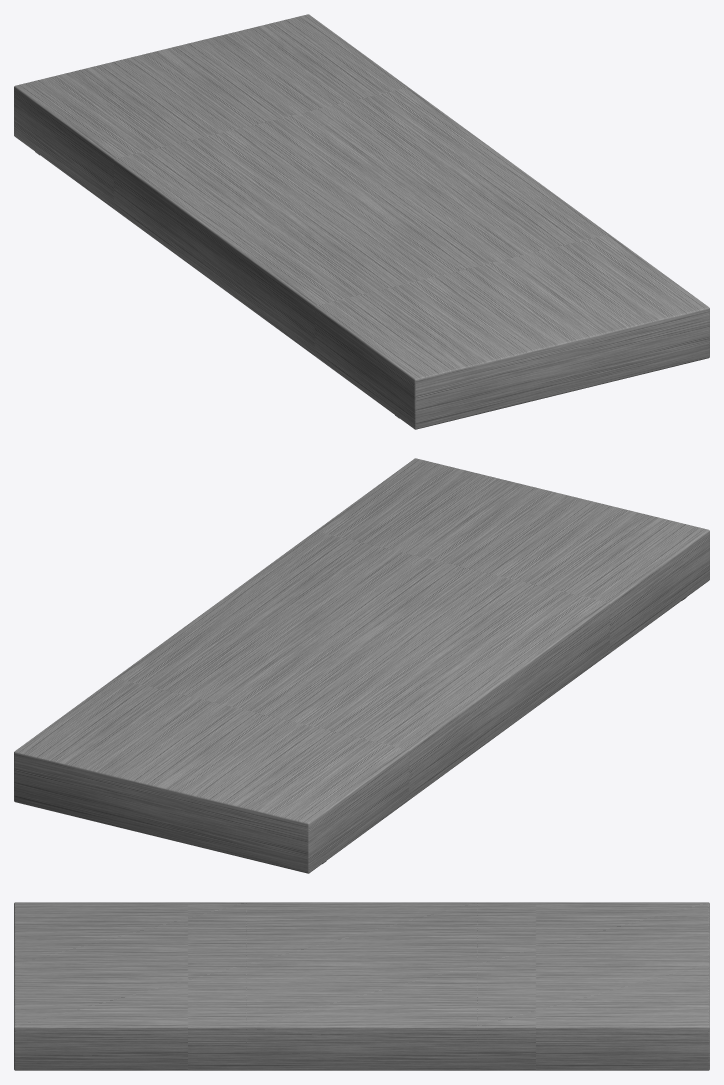
Rendered from PP_steel_podium_platinum.obj.
3 renders of one model, top to bottom at view 1: azimuth 30°, elevation 25°; view 2: azimuth 150°, elevation 25°; view 3: azimuth 270°, elevation 25°, orthographic. The views are drawn at different scales.
Parts seen in each view (by area): view 1: pp52_stell; view 2: pp52_stell; view 3: pp52_stell.
Part boxes in pixels (x1=…): pp52_stell: x1=14, y1=14, x2=709, y2=429; pp52_stell: x1=14, y1=458, x2=709, y2=873; pp52_stell: x1=14, y1=902, x2=709, y2=1070.
Size of the model in its own units: 85 by 15 by 200.
2 materials, 1 textured.
